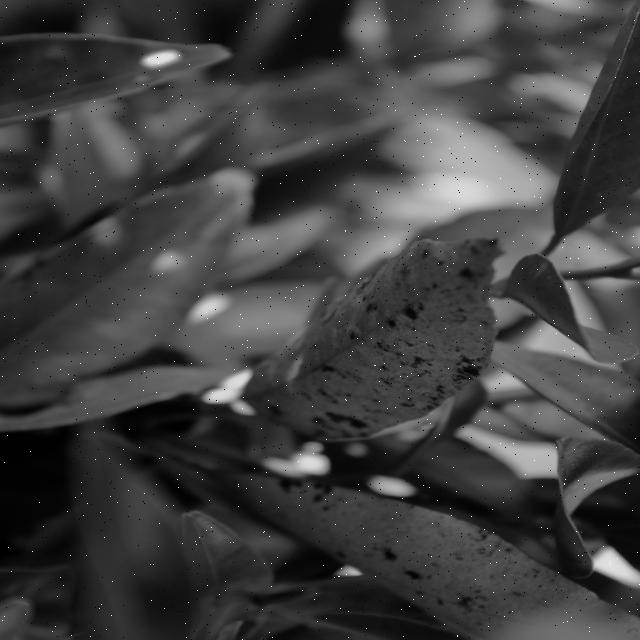melanose: (164, 439, 640, 639), (260, 216, 530, 457)
